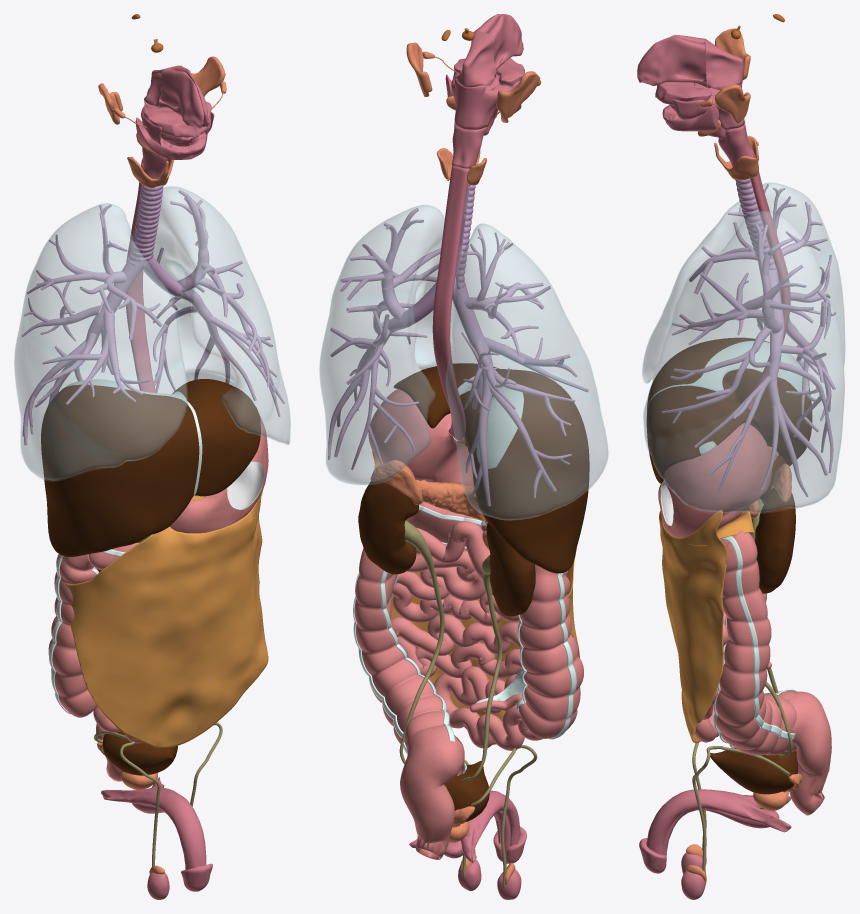
File: visceral-systems.glb
3 views of the same model, side by side, from view 1: azimuth 30°, elevation 25°; view 2: azimuth 150°, elevation 25°; view 3: azimuth 270°, elevation 25° (orthographic). The views are drawn at different scales.
Parts seen in each view (by area): view 1: Pleura · Web, Greater omentum · Web, Liver · Web, Ascending colon · Web, Corpus cavernosum of penis · Web, Stomach · Web, Gingiva · Web, Mucosa of nasal cavity · Web, Oesophagus · Web, Urinary bladder · Web, Trachea · Web, Mucosa of stomach · Web (+17 smaller); view 2: Pleura · Web, Liver · Web, Jejunum · Web, Ascending colon · Web, Descending colon · Web, Sigmoid colon · Web, Stomach · Web, Oesophagus · Web, Kidney.l · Web, Kidney.r · Web, Oropharynx · Web, Pancreas · Web (+35 smaller); view 3: Pleura · Web, Liver · Web, Greater omentum · Web, Descending colon · Web, Stomach · Web, Sigmoid colon · Web, Kidney.l · Web, Corpus cavernosum of penis · Web, Mucosa of nasal cavity · Web, Urinary bladder · Web, Gingiva · Web, Apicoposterior segmental bronchus of left lung (BI+BII) · We (+34 smaller).
Boxes of the visible parts, x1=… form: Pleura · Web: x1=14, y1=186, x2=290, y2=480; Greater omentum · Web: x1=65, y1=493, x2=268, y2=747; Liver · Web: x1=41, y1=379, x2=260, y2=556; Ascending colon · Web: x1=48, y1=554, x2=97, y2=717; Corpus cavernosum of penis · Web: x1=101, y1=777, x2=206, y2=869; Stomach · Web: x1=170, y1=416, x2=268, y2=533; Gingiva · Web: x1=135, y1=101, x2=211, y2=159; Mucosa of nasal cavity · Web: x1=159, y1=65, x2=210, y2=128; Oesophagus · Web: x1=126, y1=162, x2=156, y2=392; Urinary bladder · Web: x1=102, y1=731, x2=177, y2=775; Trachea · Web: x1=126, y1=184, x2=163, y2=269; Mucosa of stomach · Web: x1=227, y1=461, x2=263, y2=509; Pleura · Web: x1=319, y1=205, x2=608, y2=519; Liver · Web: x1=394, y1=363, x2=589, y2=573; Jejunum · Web: x1=391, y1=527, x2=542, y2=750; Ascending colon · Web: x1=518, y1=564, x2=583, y2=738; Descending colon · Web: x1=354, y1=548, x2=464, y2=775; Sigmoid colon · Web: x1=400, y1=727, x2=464, y2=859; Stomach · Web: x1=368, y1=389, x2=473, y2=485; Oesophagus · Web: x1=432, y1=165, x2=469, y2=440; Kidney.l · Web: x1=358, y1=481, x2=418, y2=574; Kidney.r · Web: x1=486, y1=522, x2=535, y2=616; Oropharynx · Web: x1=451, y1=71, x2=520, y2=129; Pancreas · Web: x1=416, y1=480, x2=489, y2=549; Pleura · Web: x1=642, y1=182, x2=845, y2=512; Liver · Web: x1=646, y1=337, x2=812, y2=483; Greater omentum · Web: x1=659, y1=510, x2=728, y2=743; Descending colon · Web: x1=715, y1=530, x2=796, y2=755; Stomach · Web: x1=658, y1=422, x2=771, y2=537; Sigmoid colon · Web: x1=788, y1=691, x2=831, y2=815; Kidney.l · Web: x1=755, y1=488, x2=795, y2=593; Corpus cavernosum of penis · Web: x1=646, y1=789, x2=791, y2=854; Mucosa of nasal cavity · Web: x1=637, y1=35, x2=706, y2=86; Urinary bladder · Web: x1=710, y1=748, x2=798, y2=794; Gingiva · Web: x1=655, y1=82, x2=718, y2=131; Apicoposterior segmental bronchus of left lung (BI+BII) · We: x1=755, y1=224, x2=820, y2=323.
Bounding box in the file's own units: 0.2634 × 0.8931 × 0.1926.
